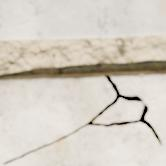brick: (7, 71, 165, 165), (0, 74, 114, 165), (0, 0, 165, 39)
crack: (2, 74, 163, 165)
